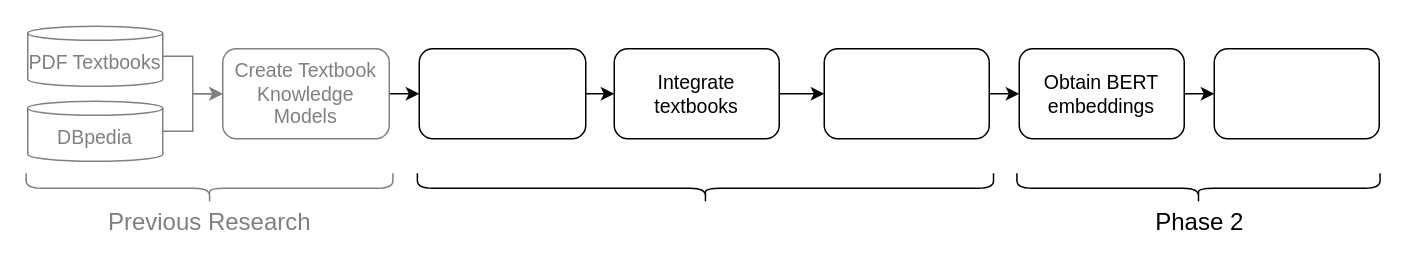
Image size: 1407x270. Some labels were removed from this diagram. The centre of each missing label's shape, as x and y in pixels:
"Classify using neural networks" belongs at point 1296,93.
"Convert to normalised, labelled dataset" belongs at point 906,93.
"Parse Textbook Knowledge Models" belongs at point 502,93.
"Phase 1" belongs at point 705,187.
